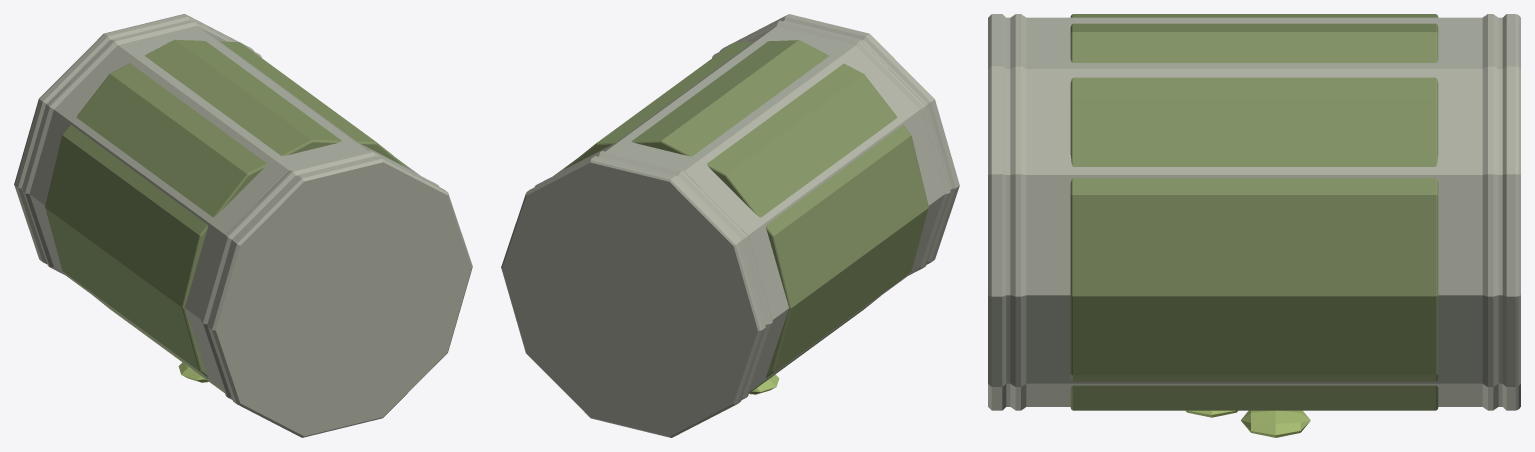
Rendered from canned_peas.glb.
The picture shows the model from 3 angles, left to right: view 1: azimuth 30°, elevation 25°; view 2: azimuth 150°, elevation 25°; view 3: azimuth 270°, elevation 25°; orthographic projection. The views are drawn at different scales.
Visible parts, largest first — view 1: canned_peas; view 2: canned_peas; view 3: canned_peas.
Boxes of the visible parts, x1,y1,x2,y2 form: canned_peas: (14, 14, 472, 437); canned_peas: (501, 14, 959, 437); canned_peas: (988, 14, 1520, 437).
Bounding box in the file's own units: 0.075 × 0.0784 × 0.1.
